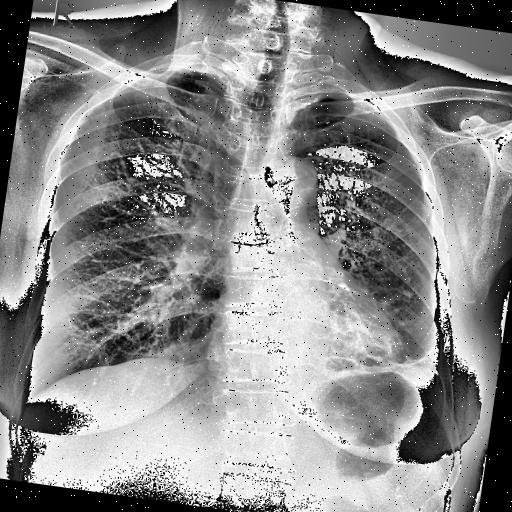0- Aortic enlargement: (256, 150, 320, 208)
10- Pleural effusion: (388, 331, 450, 408), (376, 331, 446, 390), (395, 338, 453, 404)
11- Pleural thickening: (395, 338, 453, 404), (288, 85, 354, 115), (158, 63, 198, 77)
13- Pulmonary fibrosis: (284, 122, 396, 241)
5- ILD: (326, 212, 438, 375)
